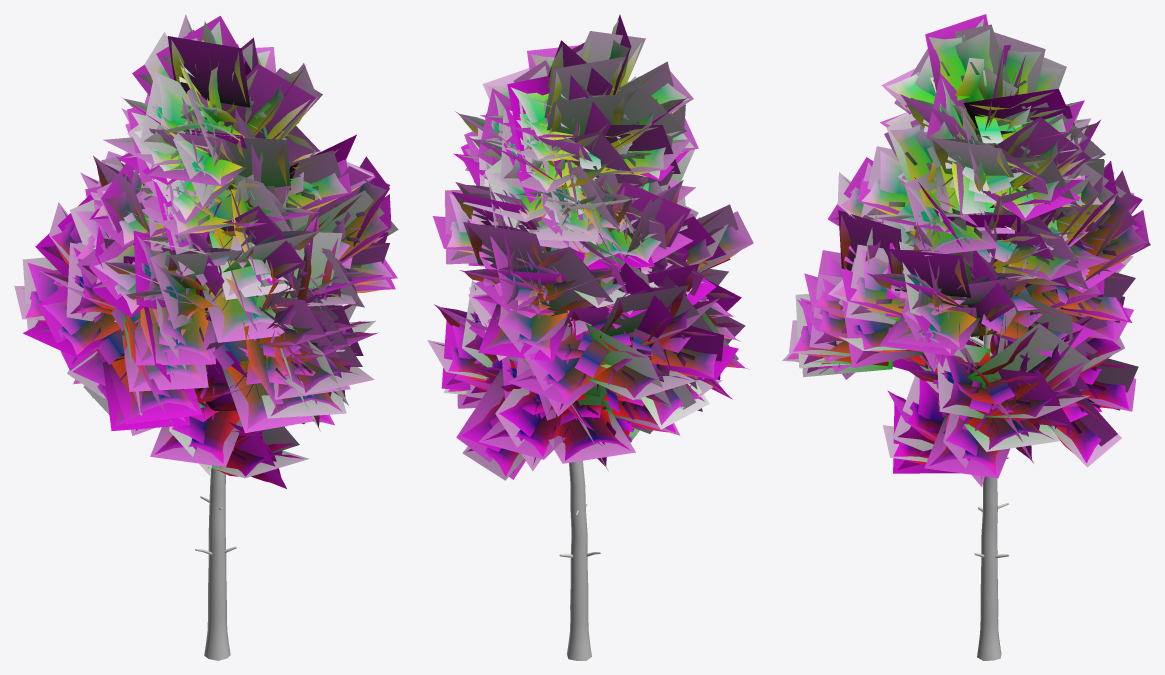
Rendered from pine_02_2.FBX.
3 views of the same model, side by side, from view 1: azimuth 30°, elevation 25°; view 2: azimuth 150°, elevation 25°; view 3: azimuth 270°, elevation 25° (orthographic). The views are drawn at different scales.
Parts seen in each view (by area): view 1: pine_leaves_02_2_shadow, pine_leaves_02_2_lod_0, pine_tree_02_2_lod_0; view 2: pine_leaves_02_2_shadow, pine_leaves_02_2_lod_0, pine_tree_02_2_lod_0; view 3: pine_leaves_02_2_shadow, pine_leaves_02_2_lod_0, pine_tree_02_2_lod_0.
Boxes of the visible parts, left/top/right/bottom form: pine_leaves_02_2_shadow: left=14, top=14, right=398, bottom=488; pine_leaves_02_2_lod_0: left=21, top=20, right=392, bottom=485; pine_tree_02_2_lod_0: left=195, top=468, right=236, bottom=660; pine_leaves_02_2_shadow: left=427, top=14, right=753, bottom=480; pine_leaves_02_2_lod_0: left=433, top=19, right=749, bottom=476; pine_tree_02_2_lod_0: left=559, top=460, right=600, bottom=660; pine_leaves_02_2_shadow: left=782, top=14, right=1150, bottom=486; pine_leaves_02_2_lod_0: left=787, top=19, right=1145, bottom=478; pine_tree_02_2_lod_0: left=969, top=326, right=1009, bottom=660.
Size of what is drawn, in the model's own units: 8.06 by 15.8 by 8.44.
